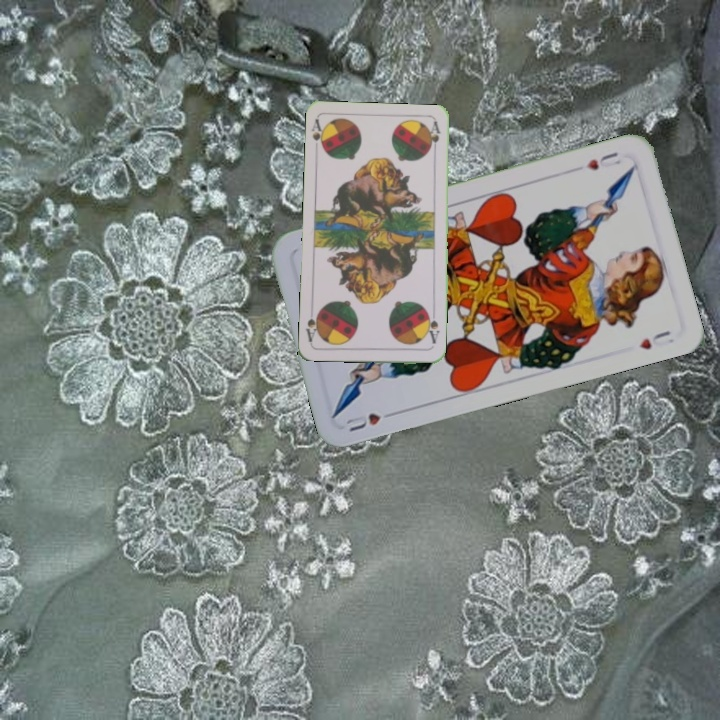HU: (342, 407, 399, 435), (582, 148, 624, 173)
SA: (308, 115, 328, 155), (422, 308, 442, 346)
